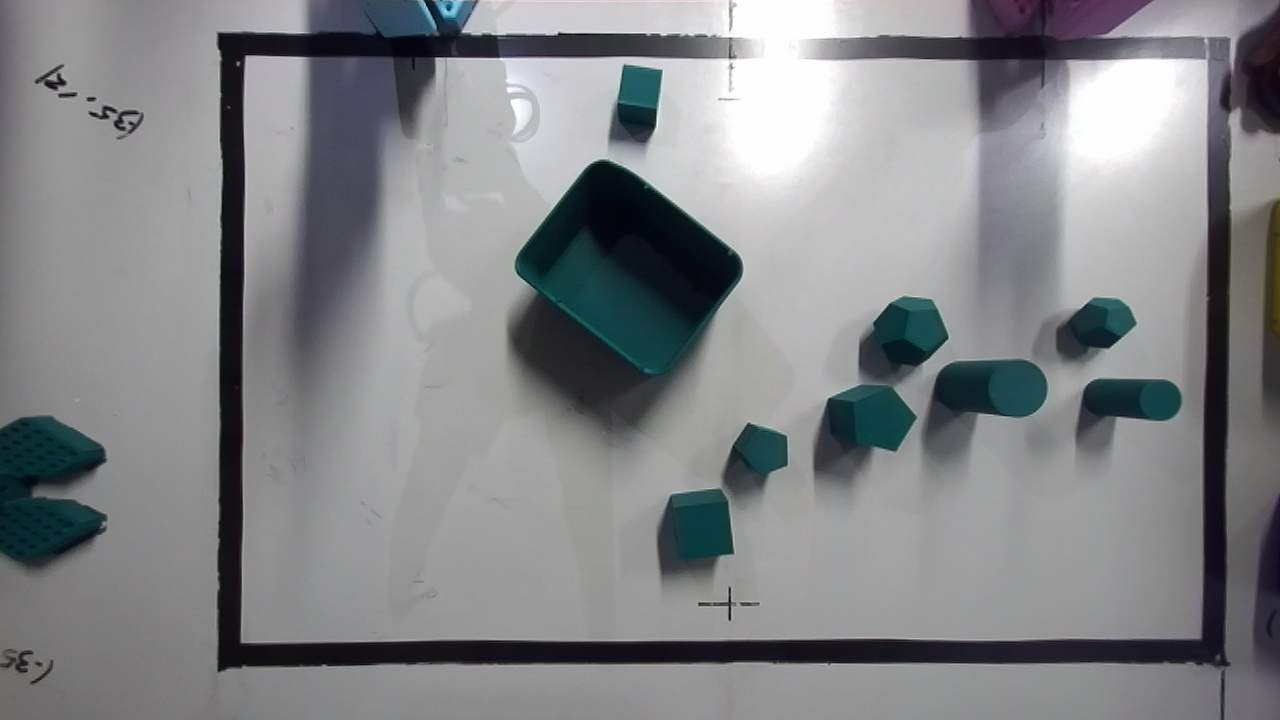bin: (515, 160, 742, 374)
cube: (668, 489, 733, 560), (617, 64, 662, 128)
cylinder: (934, 360, 1047, 416), (1082, 379, 1181, 420)
dodecahedron: (873, 296, 948, 365), (1069, 297, 1136, 347)
hexagonal: (827, 385, 916, 450), (732, 423, 787, 473)
